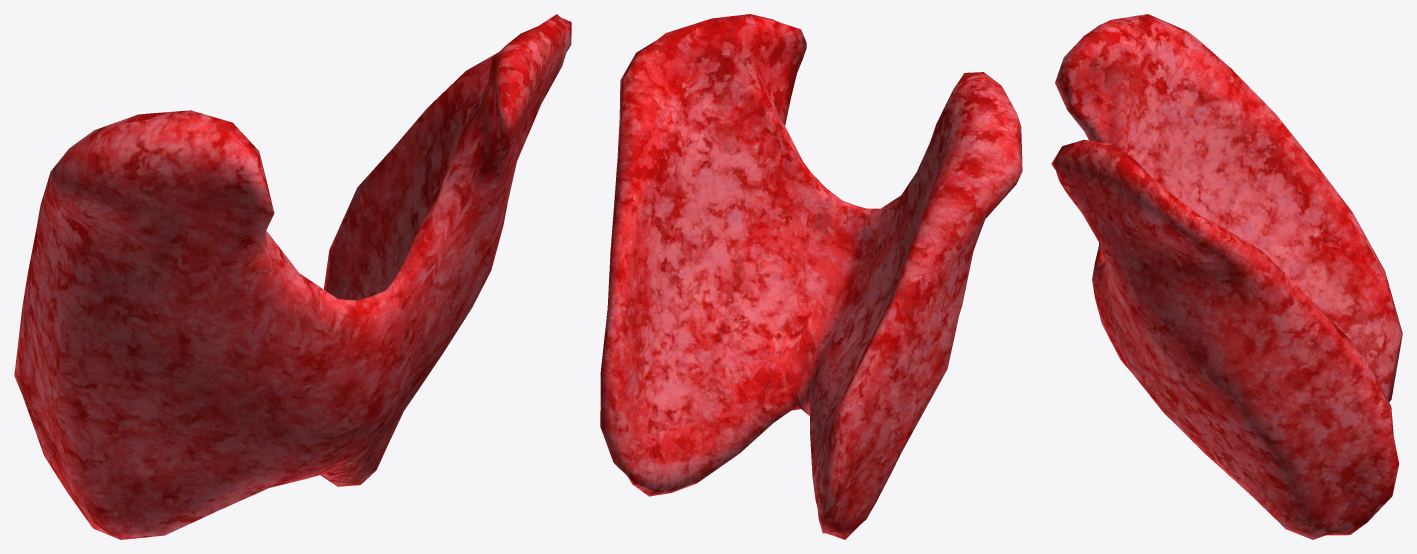
File: thyroid.FBX
The picture shows the model from 3 angles, left to right: view 1: azimuth 30°, elevation 25°; view 2: azimuth 150°, elevation 25°; view 3: azimuth 270°, elevation 25°; orthographic projection. The views are drawn at different scales.
Parts seen in each view (by area): view 1: Thyroid; view 2: Thyroid; view 3: Thyroid.
Part boxes in pixels (x1,y1,x2,y2): Thyroid: (14, 14, 571, 539); Thyroid: (600, 14, 1022, 539); Thyroid: (1051, 14, 1402, 539).
Bounding box in the file's own units: 32.57 × 24.7 × 31.57.
